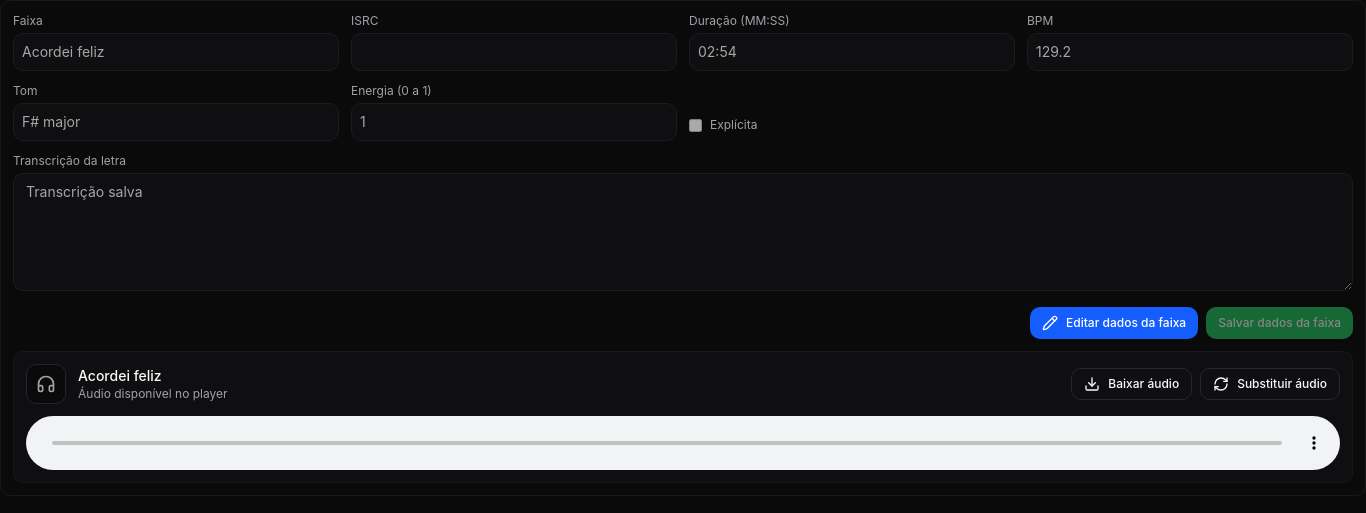
Test: TrackMetadataForm › makes every track metadata field editable and exposes an explicit save
The width and height of the screenshot is (1366, 513).
Expected: the field labelled "Faixa" is disabled, 13,33 -> 339,71
Expected: the text box labelled "Transcrição da letra" is disabled, 13,173 -> 1353,291
Click the button "Editar dados da faixa": [1114, 323] box 1030,307 -> 1198,339
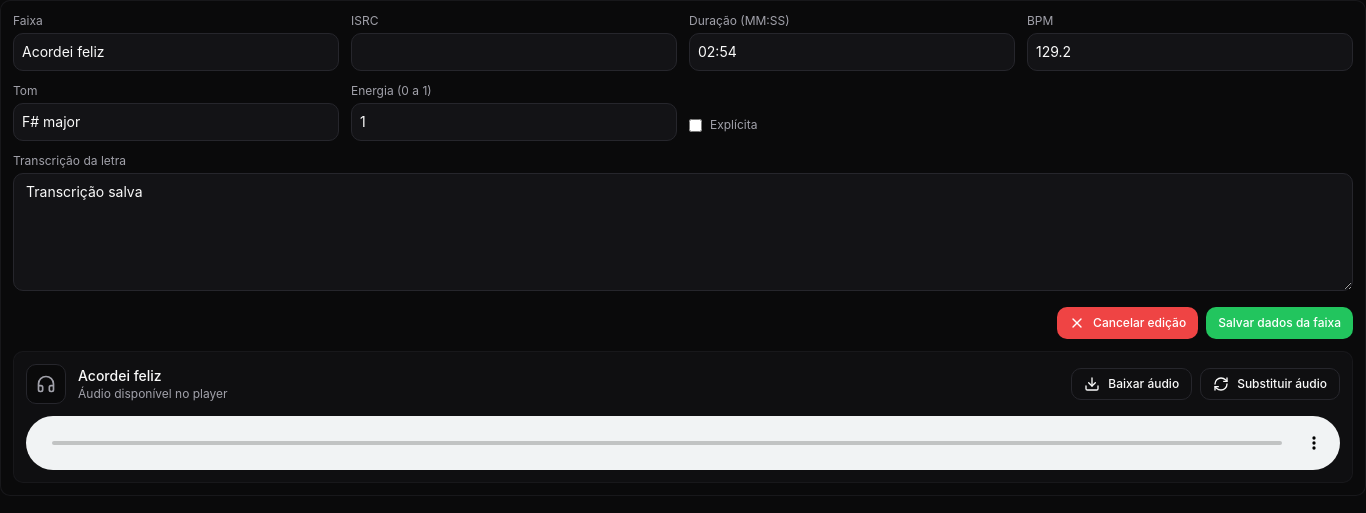
Result: the field labelled "Faixa" is enabled at 13,33 -> 339,71
Result: the field labelled "Duração (MM:SS)" is enabled at 689,33 -> 1015,71
Result: the number field labelled "BPM" is enabled at 1027,33 -> 1353,71
